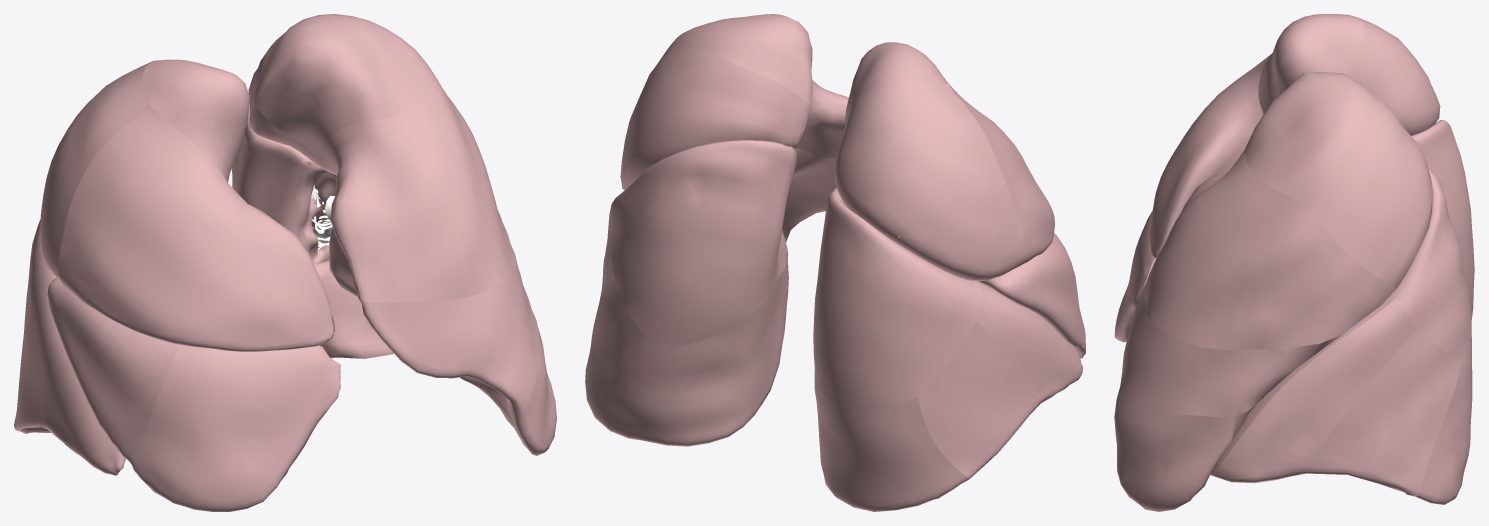
File: lungs.glb
3 renders of one model, left to right at view 1: azimuth 30°, elevation 25°; view 2: azimuth 150°, elevation 25°; view 3: azimuth 270°, elevation 25°, orthographic. The views are drawn at different scales.
Visible parts, largest first — view 1: VH_M_right_anterior_bronchopulmonary_segment, VH_M_left_anterior_bronchopulmonary_segment, VH_M_right_medial_bronchopulmonary_segment, VH_M_left_apical_bronchopulmonary_segment, VH_M_left_lingula_superior_bronchopulmonary_segment, VH_M_right_lateral_bronchopulmonary_segment, VH_M_right_apical_bronchopulmonary_segment, VH_M_right_posterior_bronchopulmonary_segment, VH_M_right_anterior_basal_bronchopulmonary_segment, VH_M_left_superior_bronchopulmonary_segment, VH_M_left_lingula_inferior_bronchopulmonary_segment, VH_M_left_medial_basal_bronchopulmonary_segment (+5 smaller); view 2: VH_M_left_superior_bronchopulmonary_segment, VH_M_right_posterior_bronchopulmonary_segment, VH_M_right_superior_bronchopulmonary_segment, VH_M_left_posetrior_basal_bronchopulmonary_segment, VH_M_left_posterior_bronchopulmonary_segment, VH_M_right_posterior_basal_bronchopulmonary_segment, VH_M_right_lateral_basal_bronchopulmonary_segment, VH_M_left_apical_bronchopulmonary_segment, VH_M_right_anterior_basal_bronchopulmonary_segment, VH_M_right_lateral_bronchopulmonary_segment, VH_M_right_anterior_bronchopulmonary_segment, VH_M_left_lingula_superior_bronchopulmonary_segment (+3 smaller); view 3: VH_M_left_anterior_bronchopulmonary_segment, VH_M_left_lateral_basal_bronchopulmonary_segment, VH_M_left_posterior_bronchopulmonary_segment, VH_M_left_anterior_basal_bronchopulmonary_segment, VH_M_left_lingula_superior_bronchopulmonary_segment, VH_M_left_apical_bronchopulmonary_segment, VH_M_left_lingula_inferior_bronchopulmonary_segment, VH_M_right_anterior_bronchopulmonary_segment, VH_M_left_superior_bronchopulmonary_segment, VH_M_right_apical_bronchopulmonary_segment, VH_M_right_posterior_bronchopulmonary_segment, VH_M_left_posetrior_basal_bronchopulmonary_segment (+3 smaller).
Boxes of the visible parts, x1,y1,x2,y2 form: VH_M_right_anterior_bronchopulmonary_segment: (59,108,334,351); VH_M_left_anterior_bronchopulmonary_segment: (325,89,516,302); VH_M_right_medial_bronchopulmonary_segment: (132,344,340,511); VH_M_left_apical_bronchopulmonary_segment: (254,14,442,162); VH_M_left_lingula_superior_bronchopulmonary_segment: (359,256,538,413); VH_M_right_lateral_bronchopulmonary_segment: (47,278,179,465); VH_M_right_apical_bronchopulmonary_segment: (143,59,249,182); VH_M_right_posterior_bronchopulmonary_segment: (40,61,152,284); VH_M_right_anterior_basal_bronchopulmonary_segment: (31,269,125,475); VH_M_left_superior_bronchopulmonary_segment: (232,104,312,237); VH_M_left_lingula_inferior_bronchopulmonary_segment: (329,245,556,455); VH_M_left_medial_basal_bronchopulmonary_segment: (319,271,393,358); VH_M_left_superior_bronchopulmonary_segment: (611,140,797,344); VH_M_right_posterior_bronchopulmonary_segment: (834,80,1027,280); VH_M_right_superior_bronchopulmonary_segment: (813,187,982,410); VH_M_left_posetrior_basal_bronchopulmonary_segment: (585,262,788,446); VH_M_left_posterior_bronchopulmonary_segment: (622,41,810,186); VH_M_right_posterior_basal_bronchopulmonary_segment: (814,369,968,511); VH_M_right_lateral_basal_bronchopulmonary_segment: (918,321,1040,479); VH_M_left_apical_bronchopulmonary_segment: (669,14,812,106); VH_M_right_anterior_basal_bronchopulmonary_segment: (976,280,1083,402); VH_M_right_lateral_bronchopulmonary_segment: (978,233,1084,348); VH_M_right_anterior_bronchopulmonary_segment: (949,84,1054,261); VH_M_left_lingula_superior_bronchopulmonary_segment: (623,148,836,239); VH_M_left_anterior_bronchopulmonary_segment: (1144,149,1396,349); VH_M_left_lateral_basal_bronchopulmonary_segment: (1306,328,1460,496); VH_M_left_posterior_bronchopulmonary_segment: (1313,102,1432,288); VH_M_left_anterior_basal_bronchopulmonary_segment: (1210,298,1415,483); VH_M_left_lingula_superior_bronchopulmonary_segment: (1114,283,1391,434); VH_M_left_apical_bronchopulmonary_segment: (1245,72,1383,211); VH_M_left_lingula_inferior_bronchopulmonary_segment: (1115,403,1257,511); VH_M_right_anterior_bronchopulmonary_segment: (1149,53,1272,258); VH_M_left_superior_bronchopulmonary_segment: (1393,168,1471,366); VH_M_right_apical_bronchopulmonary_segment: (1258,14,1364,113); VH_M_right_posterior_bronchopulmonary_segment: (1345,17,1440,135); VH_M_left_posetrior_basal_bronchopulmonary_segment: (1416,361,1472,504).
Size of the model in its own units: 0.2594 by 0.2291 by 0.1897.
